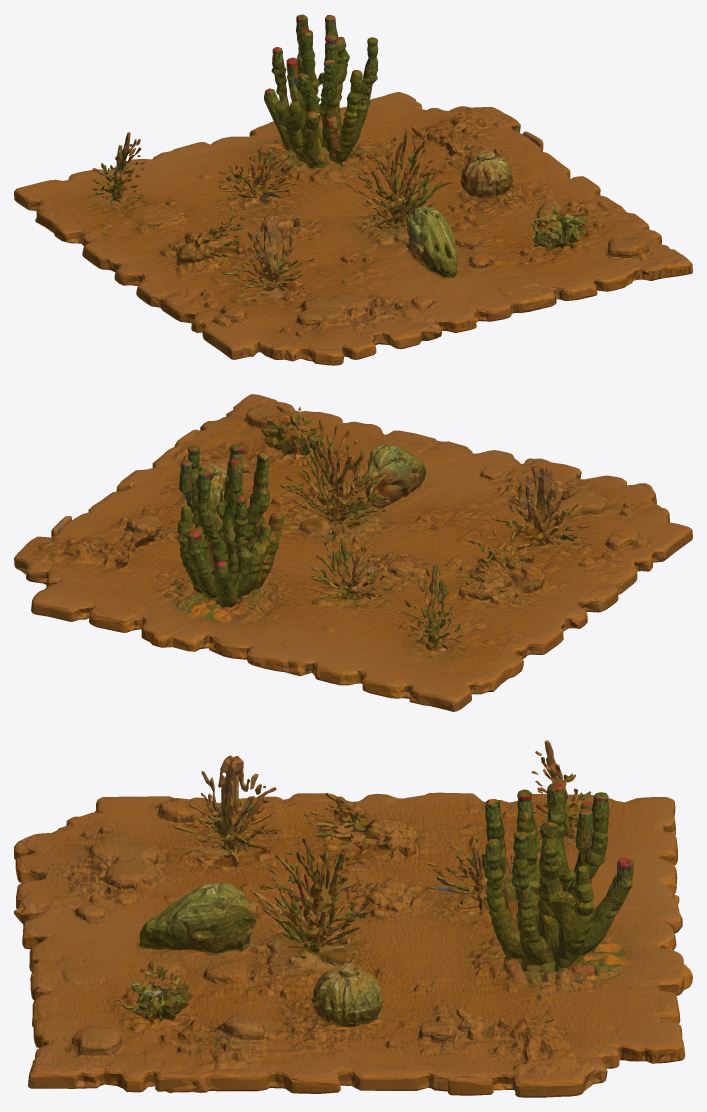
Rendered from desert-ground-7.glb.
3 renders of one model, top to bottom at view 1: azimuth 30°, elevation 25°; view 2: azimuth 150°, elevation 25°; view 3: azimuth 270°, elevation 25°, orthographic. The views are drawn at different scales.
Parts seen in each view (by area): view 1: textured_mesh.obj; view 2: textured_mesh.obj; view 3: textured_mesh.obj.
Part boxes in pixels (x1=…): textured_mesh.obj: x1=14, y1=14, x2=692, y2=365; textured_mesh.obj: x1=14, y1=394, x2=692, y2=711; textured_mesh.obj: x1=14, y1=740, x2=692, y2=1097.
Size of the model in its own units: 1.99 by 0.6055 by 1.95.
1 material, 1 textured.
